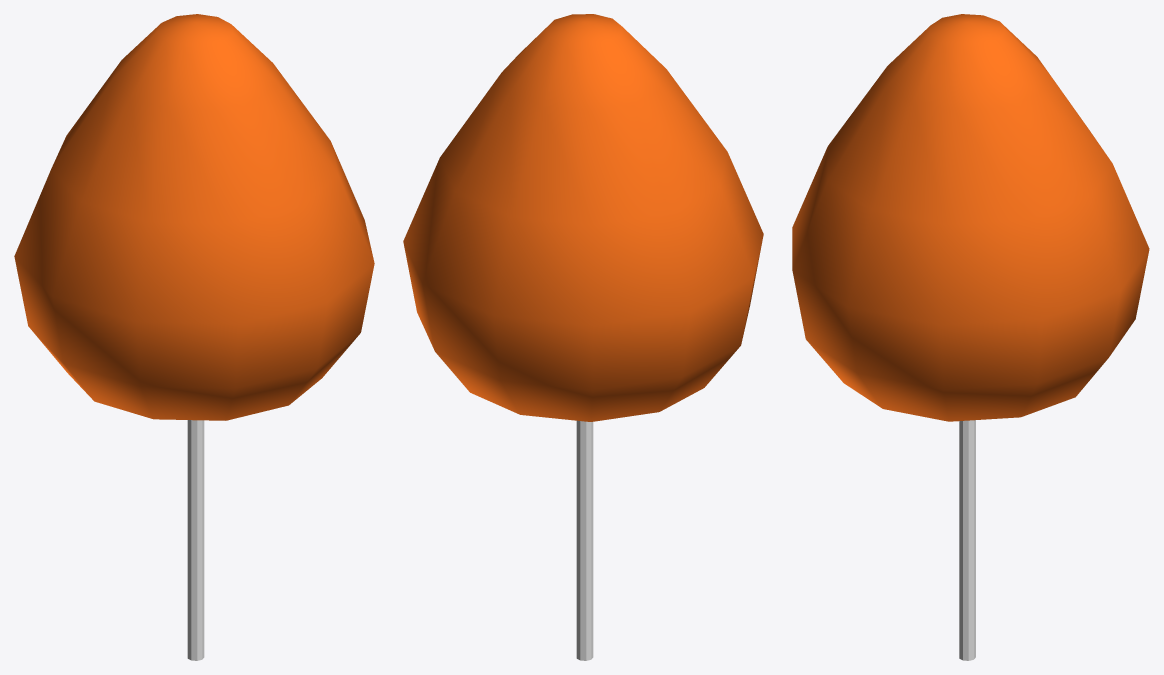
File: 5_OrangeTree.fbx
The picture shows the model from 3 angles, left to right: view 1: azimuth 30°, elevation 25°; view 2: azimuth 150°, elevation 25°; view 3: azimuth 270°, elevation 25°; orthographic projection.
Visible parts, largest first — view 1: Sphere.068, Cylinder.053; view 2: Sphere.068, Cylinder.053; view 3: Sphere.068, Cylinder.053.
Part boxes in pixels (left/top/right/bottom): Sphere.068: left=14, top=14, right=374, bottom=420; Cylinder.053: left=187, top=420, right=204, bottom=660; Sphere.068: left=403, top=14, right=763, bottom=421; Cylinder.053: left=576, top=420, right=593, bottom=660; Sphere.068: left=792, top=14, right=1149, bottom=421; Cylinder.053: left=959, top=420, right=975, bottom=660.
Size of the model in its own units: 119 by 231 by 118.
